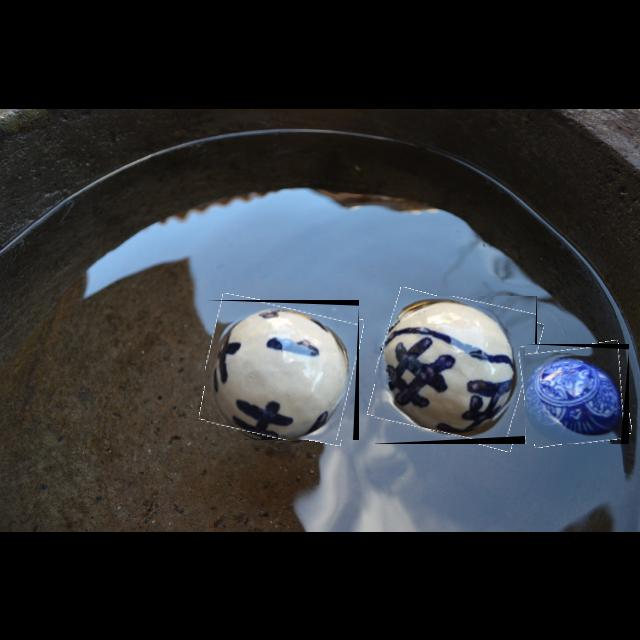Football: (375, 296, 537, 444), (205, 300, 359, 440), (525, 344, 629, 444)
